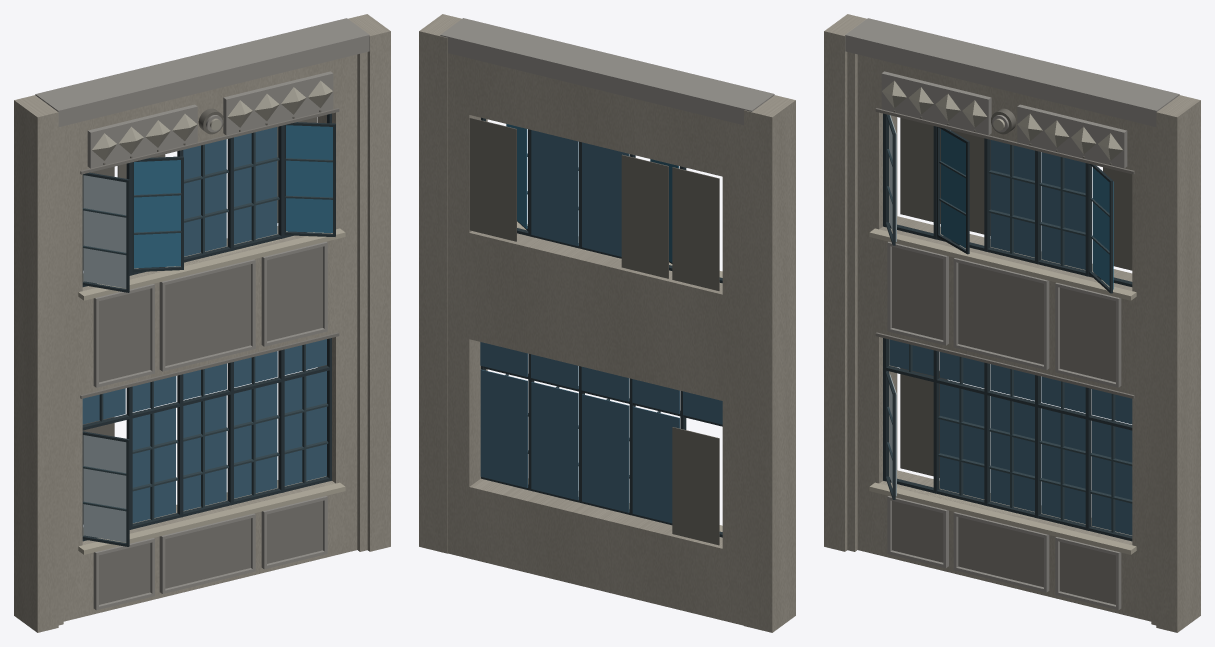
The model's file is jingan-industrial-bank-warehouse-steel-casements-raw.glb.
3 views of the same model, side by side, from view 1: azimuth 30°, elevation 25°; view 2: azimuth 150°, elevation 25°; view 3: azimuth 330°, elevation 25° (orthographic).
Parts seen in each view (by area): view 1: 中国实业银行仓库南面高段双层钢窗与折纹窗楣; view 2: 中国实业银行仓库南面高段双层钢窗与折纹窗楣; view 3: 中国实业银行仓库南面高段双层钢窗与折纹窗楣.
Part boxes in pixels (x1,y1,x2,y2): 中国实业银行仓库南面高段双层钢窗与折纹窗楣: (14,14,390,632); 中国实业银行仓库南面高段双层钢窗与折纹窗楣: (419,14,795,632); 中国实业银行仓库南面高段双层钢窗与折纹窗楣: (824,14,1200,632).
Size of the model in its own units: 6.08 by 8.5 by 1.04.
Materials: 11 (1 with a texture image).
